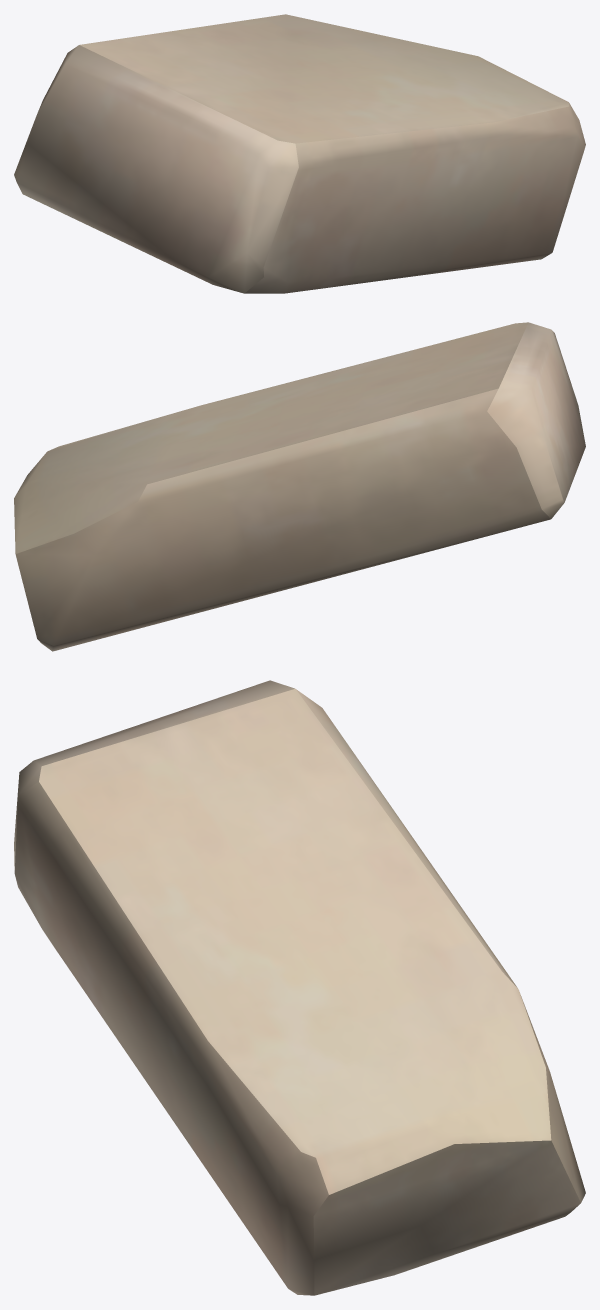
File: Group02_zhuankuai02_b.fbx
The picture shows the model from 3 angles, top to bottom: view 1: azimuth 30°, elevation 25°; view 2: azimuth 150°, elevation 25°; view 3: azimuth 270°, elevation 25°; orthographic projection. The views are drawn at different scales.
Visible parts, largest first — view 1: Group02_zhuankuai02_b__2_; view 2: Group02_zhuankuai02_b__2_; view 3: Group02_zhuankuai02_b__2_.
Part boxes in pixels (x1,y1,x2,y2): Group02_zhuankuai02_b__2_: (14,14,585,293); Group02_zhuankuai02_b__2_: (14,322,585,651); Group02_zhuankuai02_b__2_: (14,680,585,1295).
Size of the model in its own units: 172 by 92.55 by 134.
